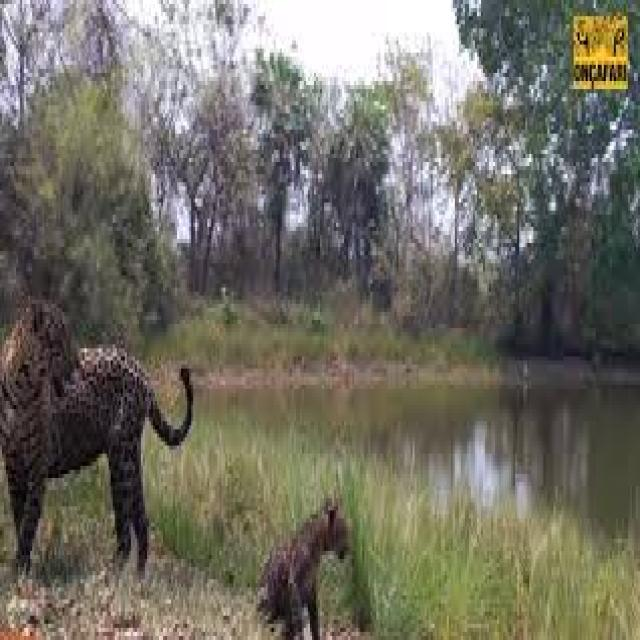Jaguar: (0, 296, 195, 579), (260, 494, 354, 640)
